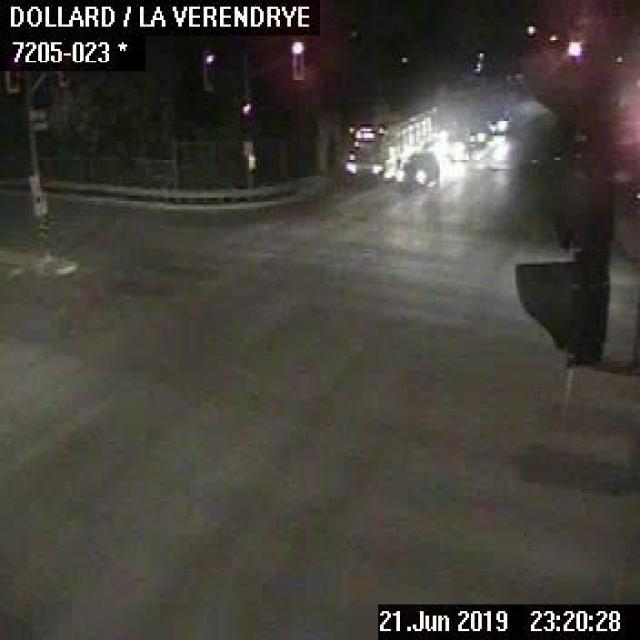bus: (338, 100, 438, 181)
vehicle: (395, 148, 441, 188), (437, 125, 468, 156), (482, 104, 509, 134), (462, 119, 488, 145)
